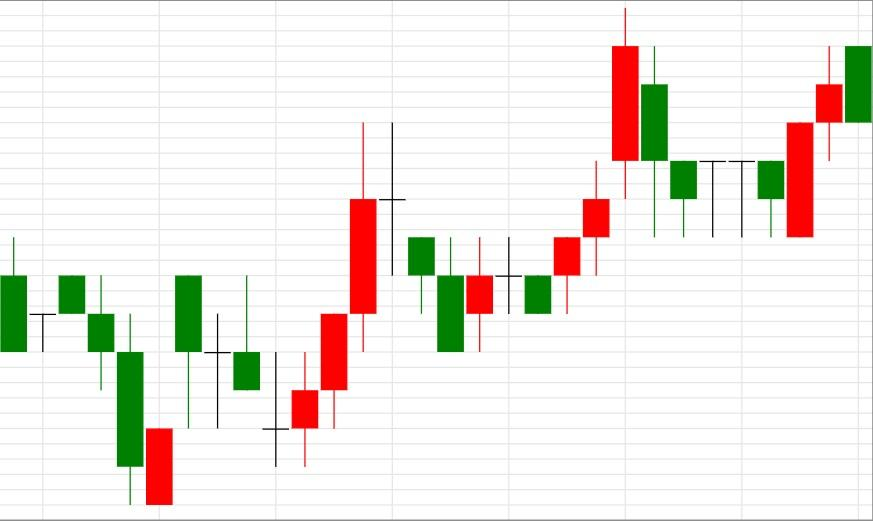bullish_engulfing_rise: (612, 7, 814, 238)
three_white_soldiers_rise: (175, 122, 378, 468)
